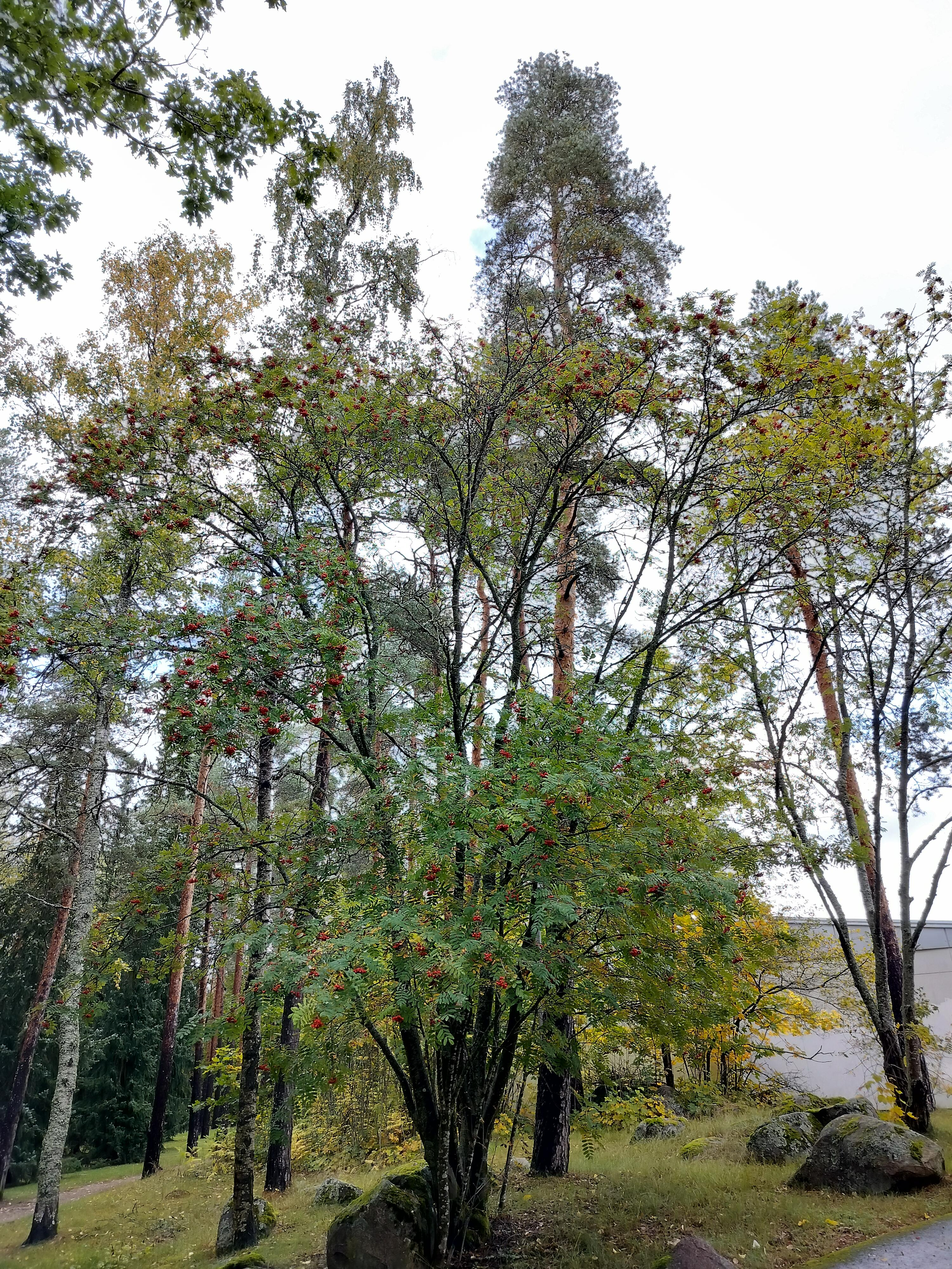Rowan: (89, 308, 784, 1261)
